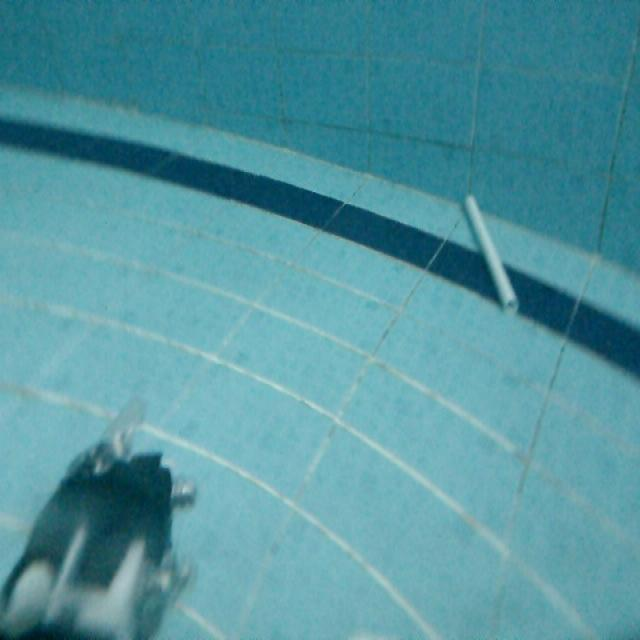Cube: (459, 195, 521, 318)
